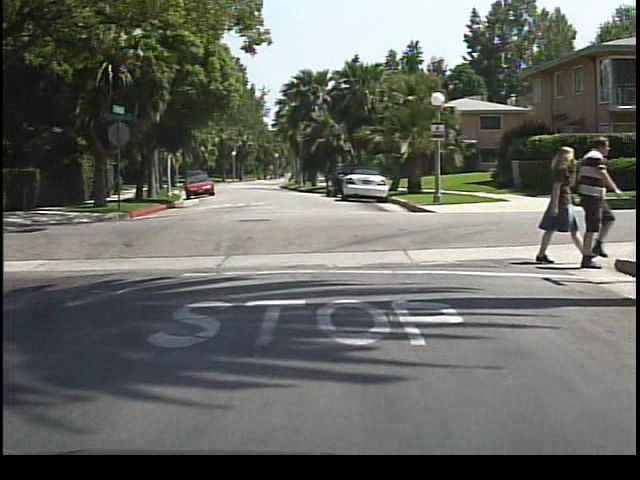person: (570, 134, 621, 274), (533, 144, 577, 266)
